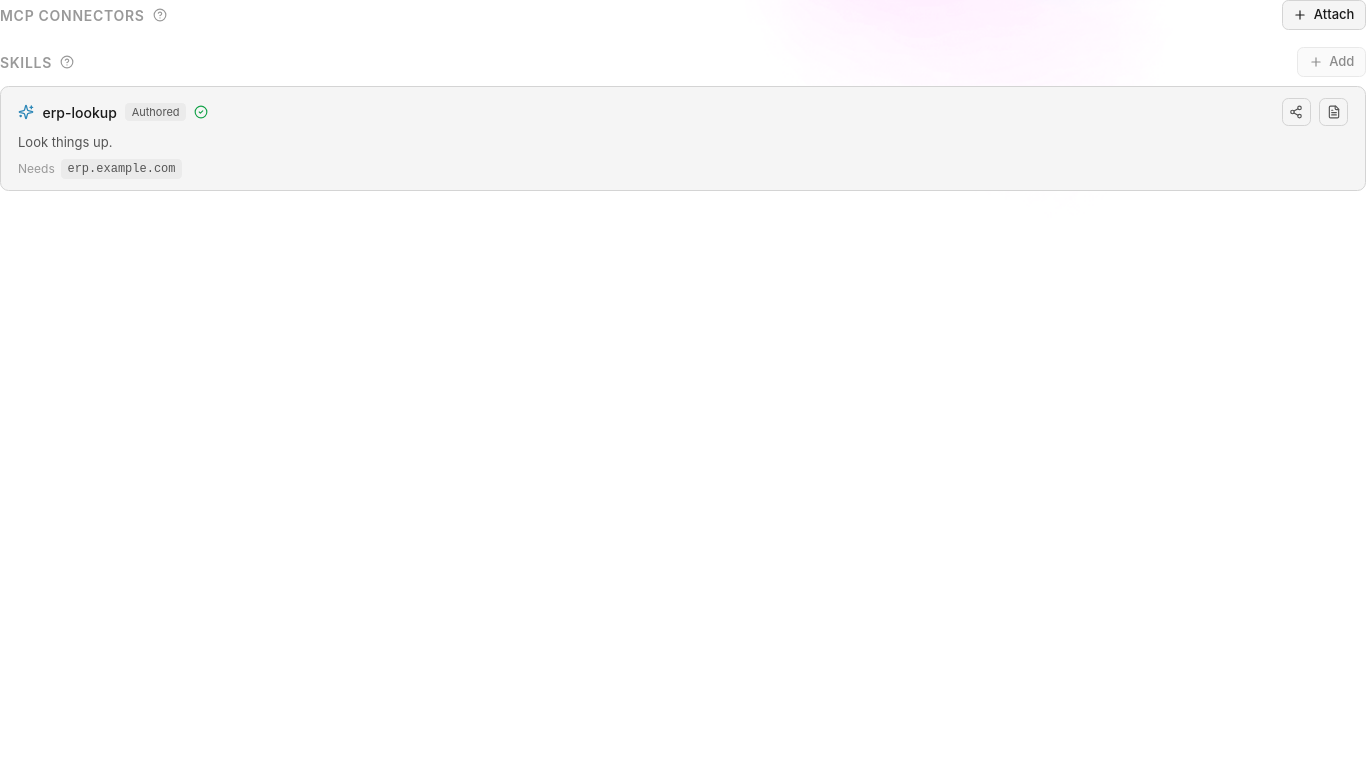
Test case: ShareSkillDialog › shows the version and catalog id, picks no credential by default, and sends the choices made
This screenshot has width=1366, height=768.
Click the button named "Share erp-lookup…" at (1296, 112), box [1282,98,1311,126]
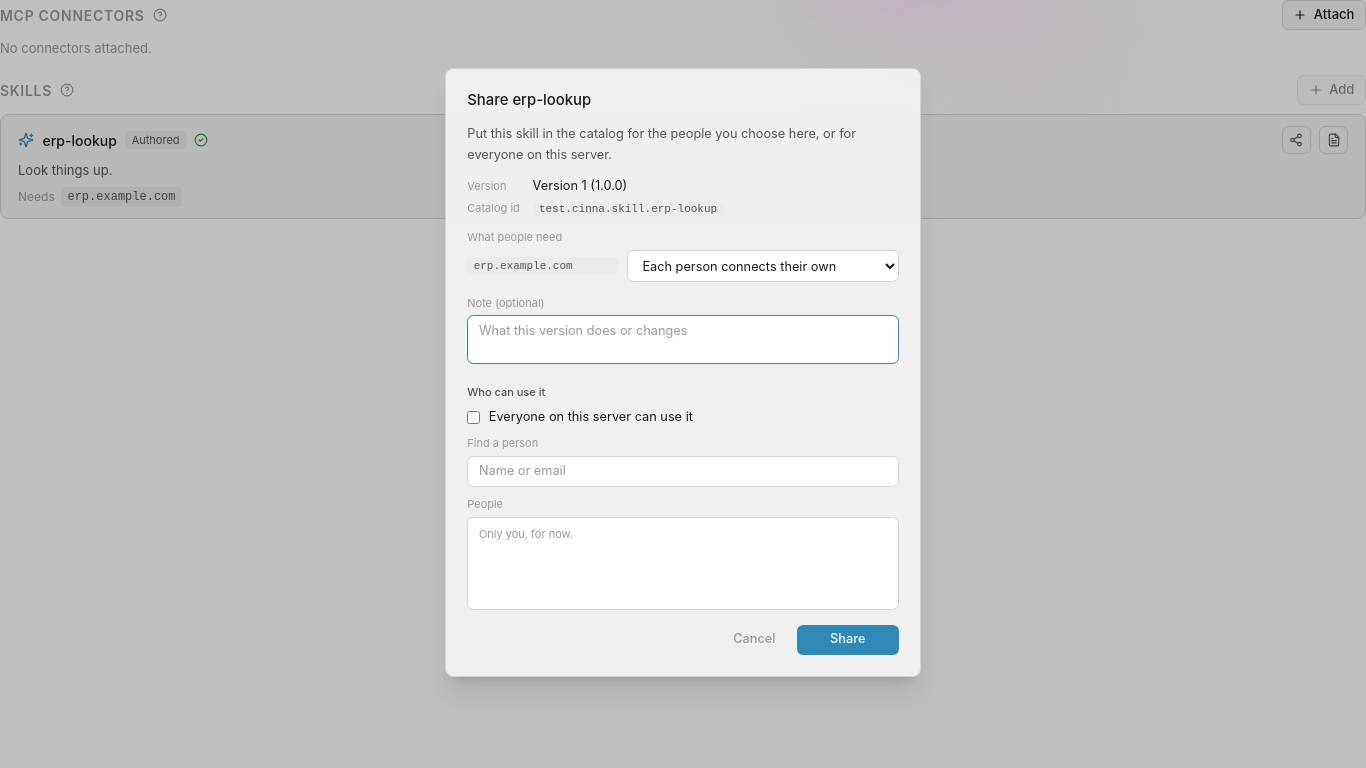
Check: the text "Version 1 (1.0.0)" is shown, box [532,178,627,193]
Check: the dropdown named "What people need for erp.example.com" is enabled
Check: the dropdown named "What people need for erp.example.com" shows "Each person connects their own"
Select "ERP token" in the dropdown named "What people need for erp.example.com" at (763, 266), box [627,250,899,282]
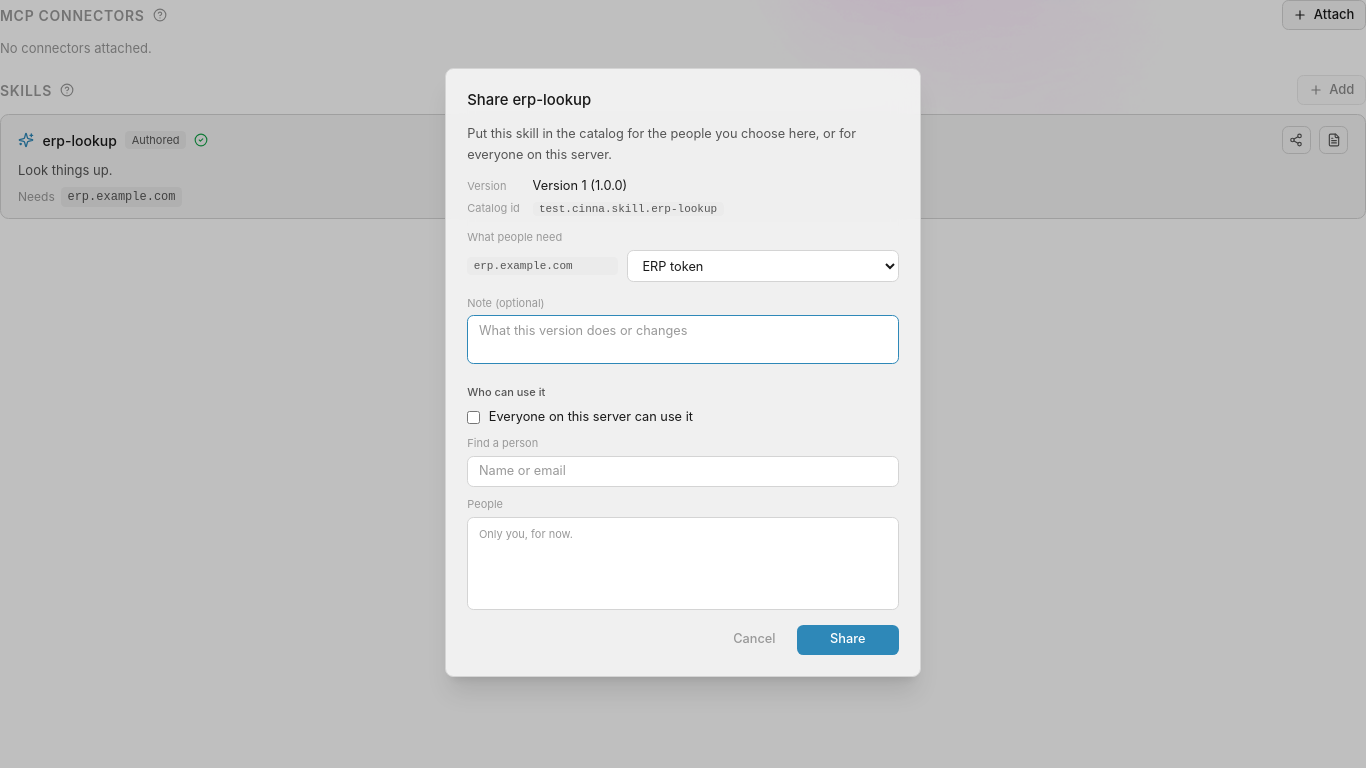
Type "First cut" into the text box labelled "Note (optional)" at (683, 340), box [467,315,899,364]
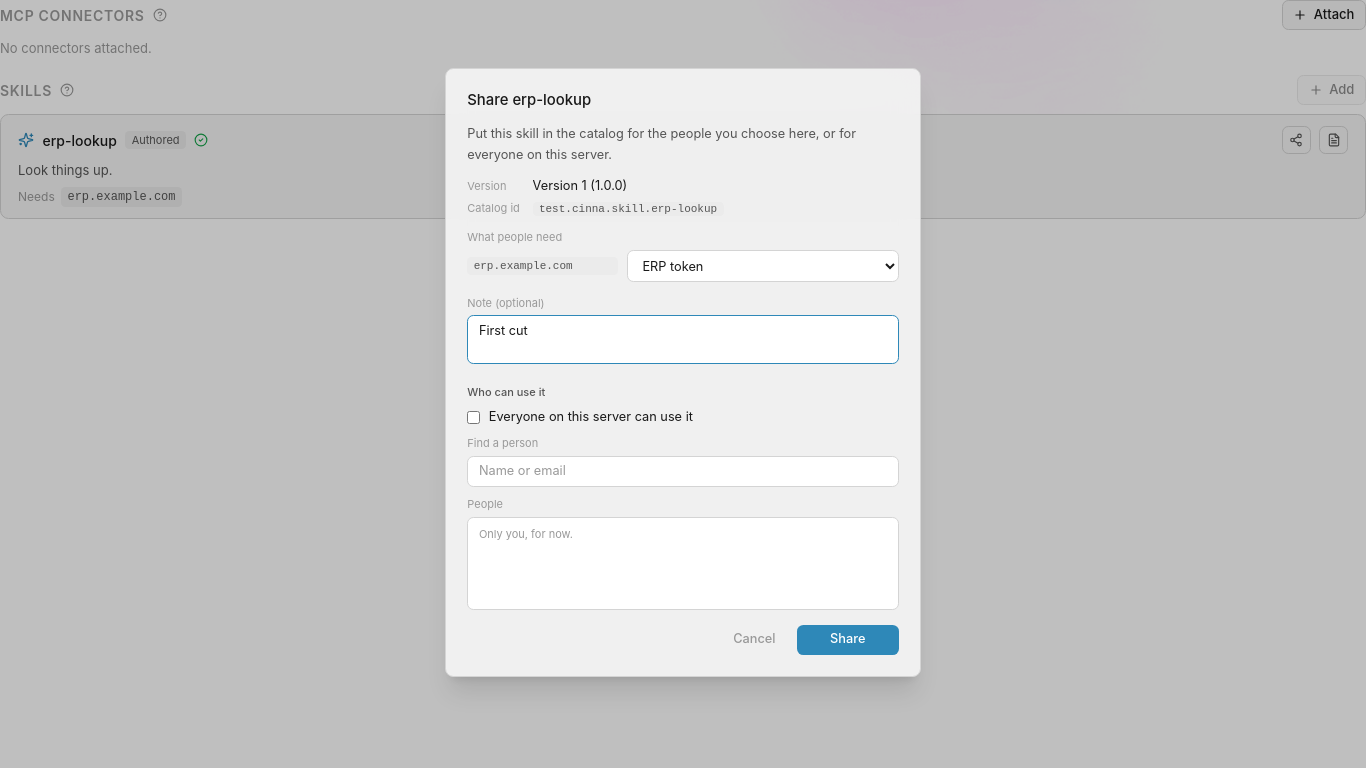
Click the checkbox labelled "Everyone on this server can use it" at (474, 418), box [467,411,480,424]
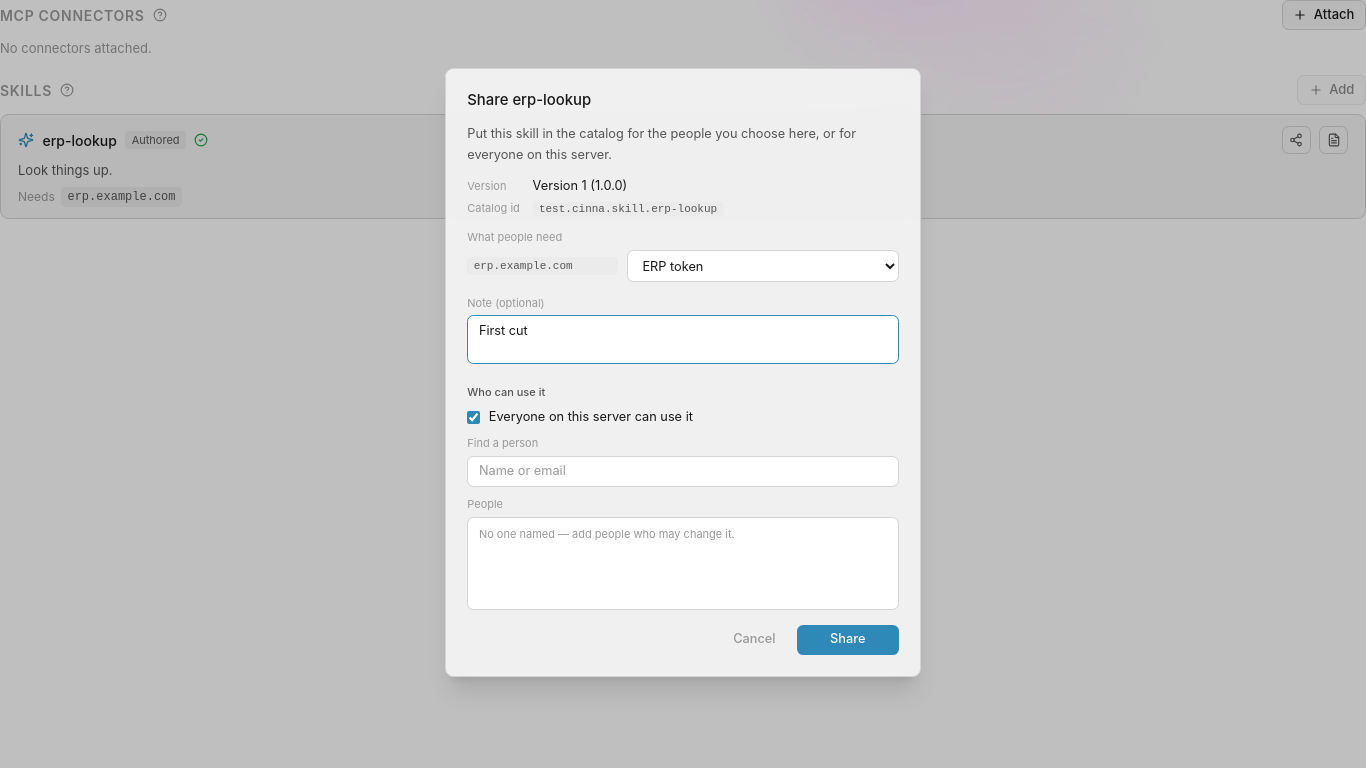
Click the button "Share" at (848, 640), box [797,625,899,655]
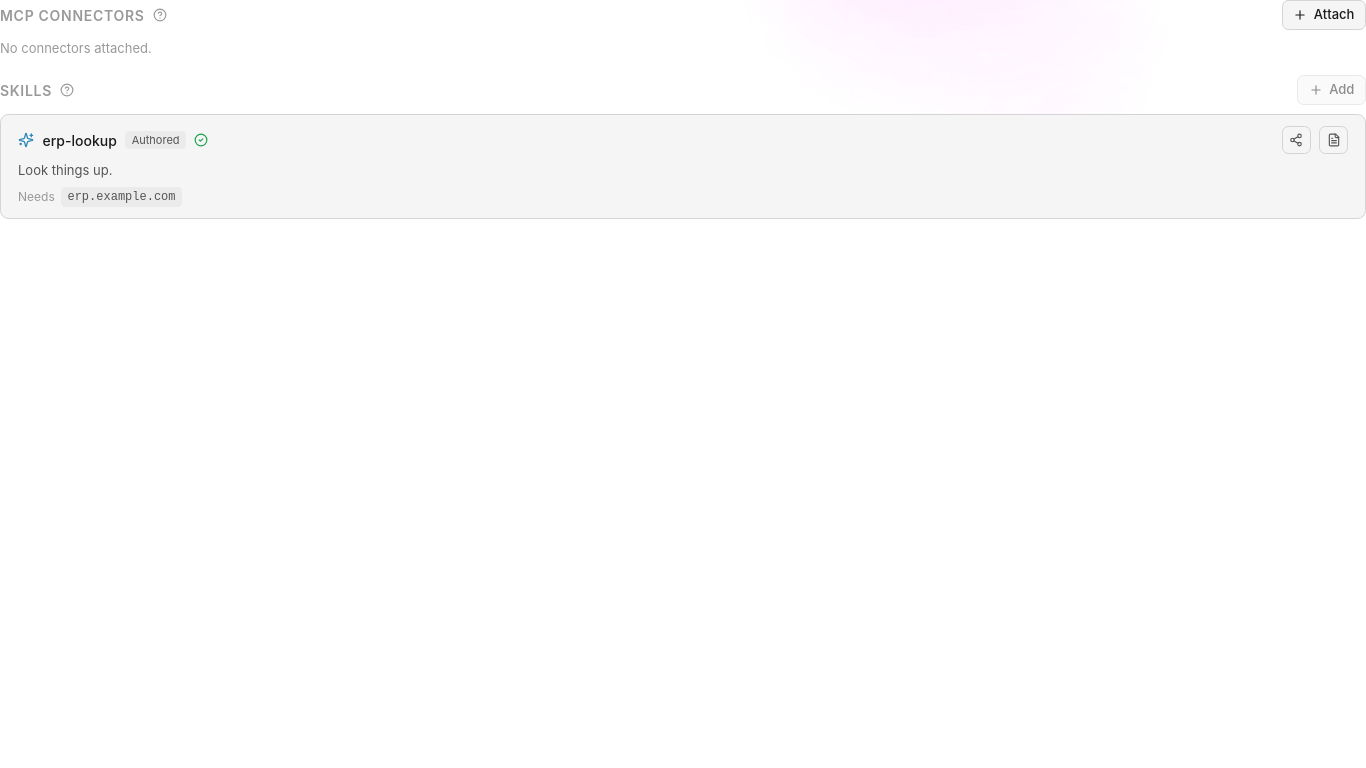
Check: the dialog is gone
